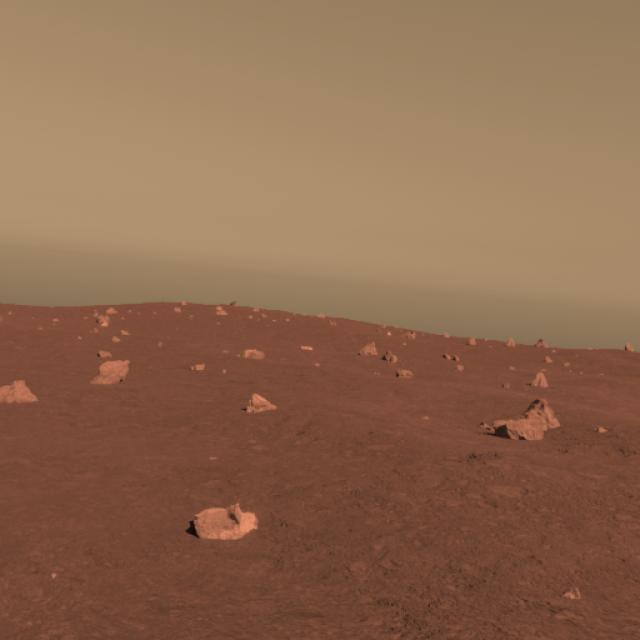rock: (189, 496, 258, 548), (490, 400, 566, 445)
